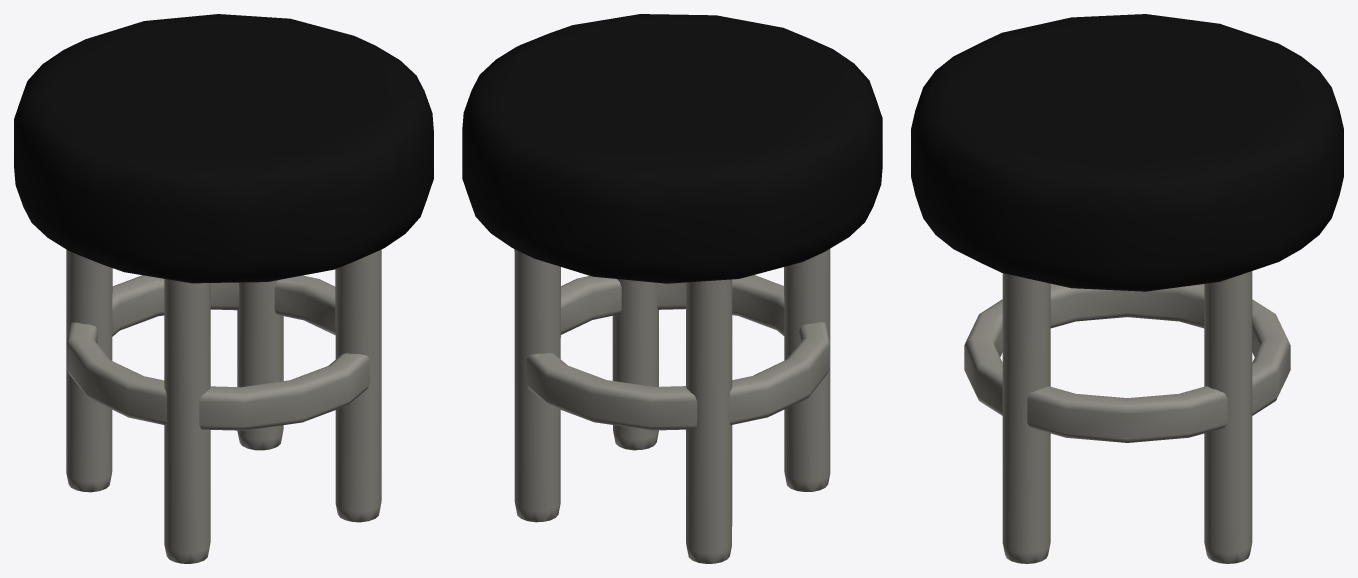
Rendered from stool_08_black.fbx.
The picture shows the model from 3 angles, left to right: view 1: azimuth 30°, elevation 25°; view 2: azimuth 150°, elevation 25°; view 3: azimuth 270°, elevation 25°; orthographic projection. The views are drawn at different scales.
Parts seen in each view (by area): view 1: stool_08_black; view 2: stool_08_black; view 3: stool_08_black.
Part boxes in pixels (x1,y1,x2,y2): stool_08_black: (14, 14, 433, 563); stool_08_black: (462, 14, 882, 563); stool_08_black: (911, 14, 1343, 563).
Bounding box in the file's own units: 39.67 × 42.64 × 39.67.
Materials: 2 (2 with a texture image).
